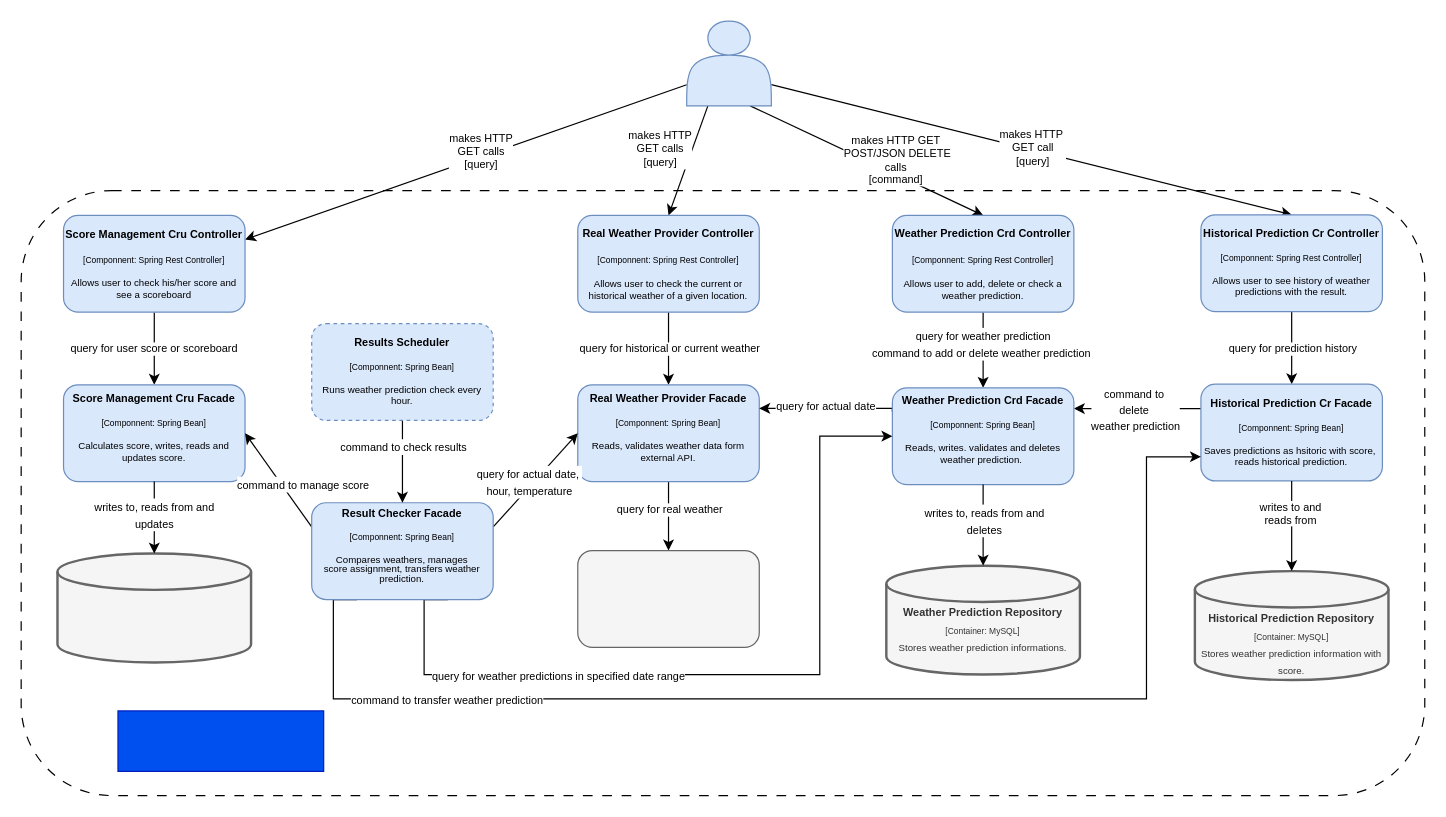
The diagram is 1446 pixels wide and 817 high, and some of its shapes have lost their labels. Here are the shapes that lost their labels. From the top down, the centre of each, then its label:
point (728, 63): User [person]
point (154, 607): Score Management Repository [Container: MySQL] Stores user score .
point (668, 598): External Weather API [Container: Software System]
point (220, 740): CONTAINER: weather-forecasting-game [Software system backend]
